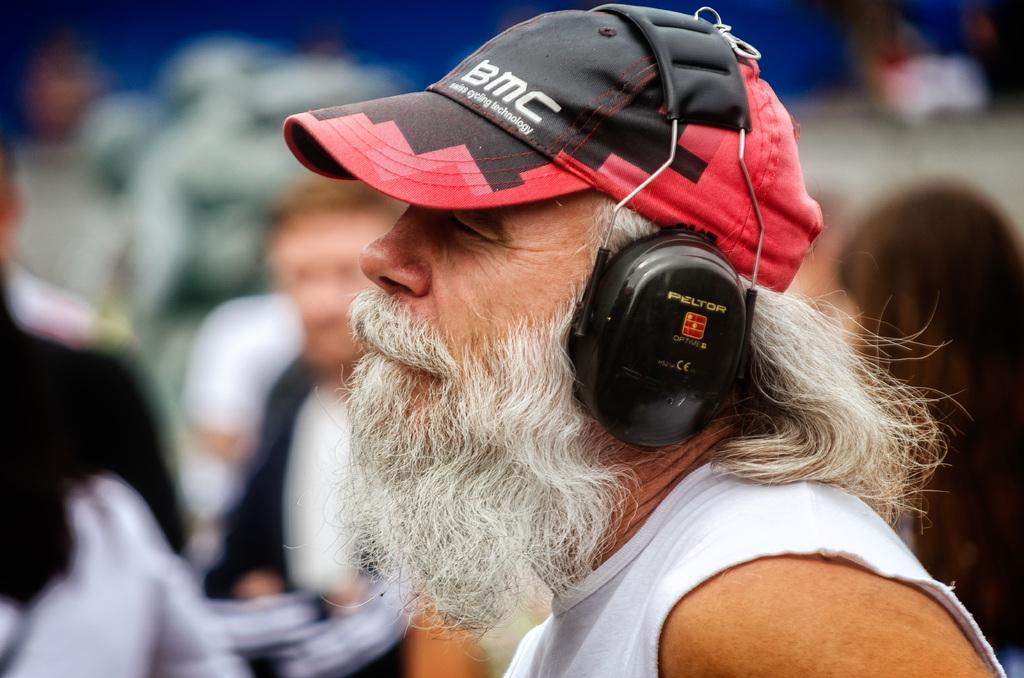Hat: (281, 6, 828, 293)
